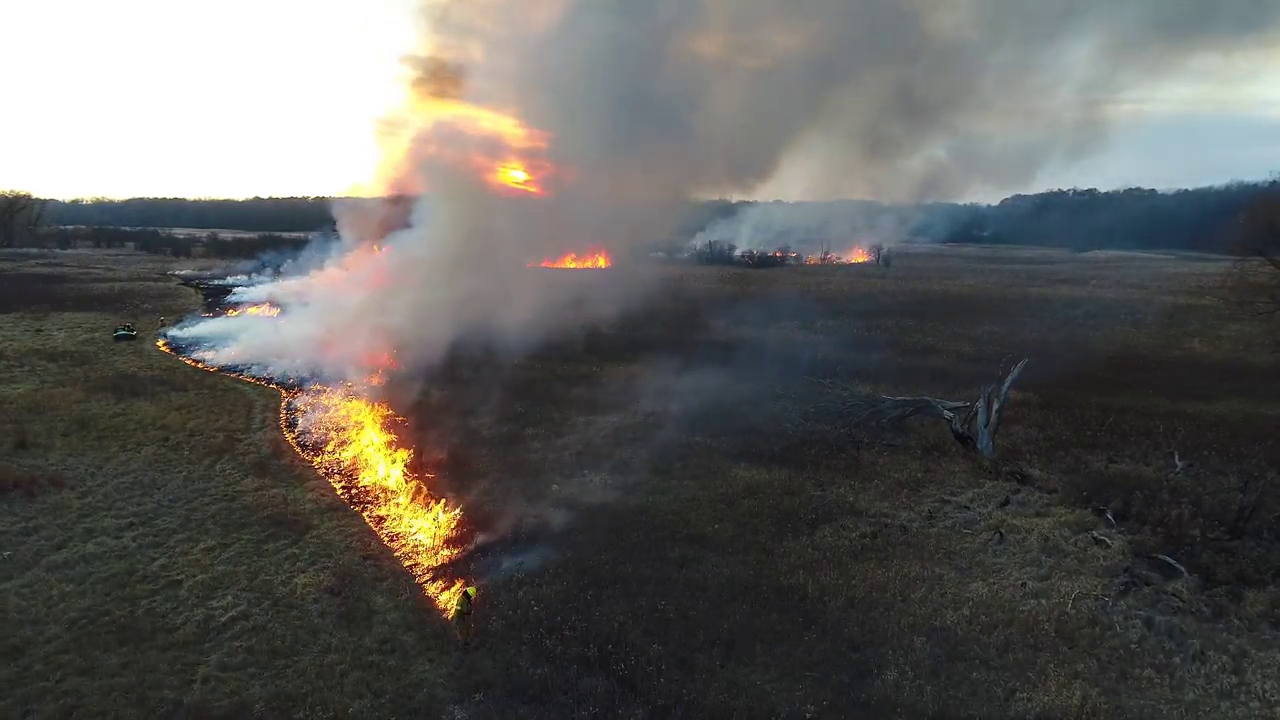forest_fire: (157, 339, 468, 618), (529, 249, 611, 269), (799, 248, 876, 265), (205, 302, 280, 317)
